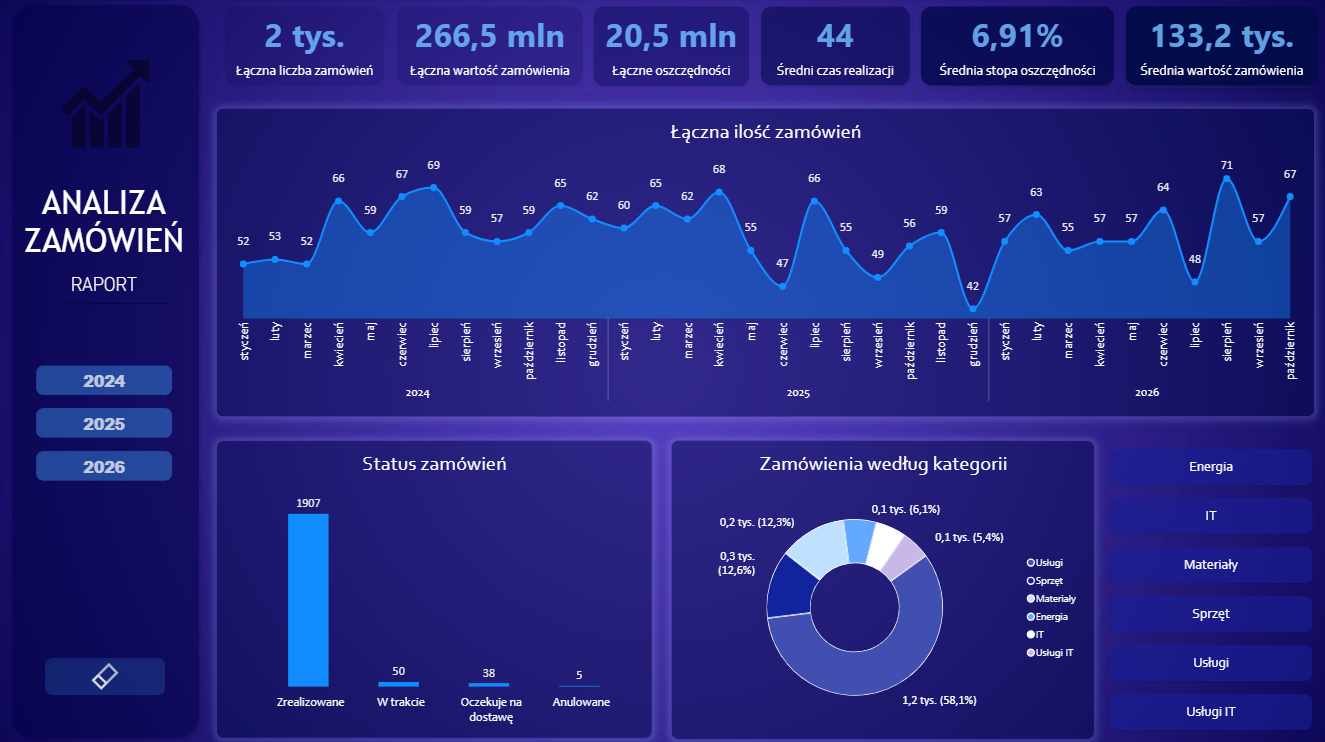

Layout of this report page (visuals, bound fields, positions):
{"tool":"powerbi","page":{"name":"Raport","canvas":[1920,1080],"ordinal":0},"visuals":[{"type":"shape","box":[6.4,0,289.8,1080.4],"z":0},{"type":"cardVisual","fields":{"Data":["Buyers.Total orders"]},"box":[313.7,0,256.8,139.4],"z":1000},{"type":"cardVisual","fields":{"Data":["Buyers.Total spend"]},"box":[562.3,0,293.5,139.4],"z":2000},{"type":"cardVisual","fields":{"Data":["Buyers.Total savings"]},"box":[847.6,0,250,140],"z":3000},{"type":"cardVisual","fields":{"Data":["Buyers.Average order value"]},"box":[1617.3,0,302.7,139.4],"z":4000},{"type":"cardVisual","fields":{"Data":["Buyers.Average savings rate"]},"box":[1321.5,0,304.5,139.4],"z":5000},{"type":"cardVisual","fields":{"Data":["Buyers.Average cycle time"]},"box":[1089.4,0,240.3,139.4],"z":6000},{"type":"areaChart","title":"Łączna ilość zamówień","fields":{"Category":["Calendar.Year","Calendar.Month Name"],"Y":["Buyers.Total orders"]},"box":[313.7,159.6,1590.3,447.6],"z":7000},{"type":"columnChart","title":"Status zamówień","fields":{"Category":["Orders.Order_Status"],"Y":["Buyers.Total orders"]},"box":[313.7,640.2,631,431],"z":8000},{"type":"donutChart","title":"Zamówienia według kategorii","fields":{"Category":["Categories.Category_Group"],"Y":["Buyers.Total orders"]},"box":[972.2,640.2,612.6,432.9],"z":9000},{"type":"advancedSlicerVisual","fields":{"Values":["Categories.Category_Group"]},"box":[1584.8,632.8,336,448],"z":10000},{"type":"textbox","box":[5.5,249.5,289.8,240.3],"z":11000},{"type":"image","box":[8.4,81.7,288,144],"z":12000},{"type":"advancedSlicerVisual","fields":{"Values":["Calendar.Year"]},"box":[30.4,512,240,208],"z":13000},{"type":"actionButton","title":"RESET FILTERS","box":[56.4,945.7,192,72],"z":14000},{"type":"shape","box":[56.4,297.7,192,288],"z":15000}]}

Visuals, with their boxes in screenshot pixels (x1, y1, x2, y2), scaled from the page's 1920x1080 canvas onto the 1325x742 screenshot:
shape: (left=4, top=0, right=204, bottom=741)
cardVisual - Buyers.Total orders: (left=216, top=0, right=394, bottom=96)
cardVisual - Buyers.Total spend: (left=388, top=0, right=591, bottom=96)
cardVisual - Buyers.Total savings: (left=585, top=0, right=757, bottom=96)
cardVisual - Buyers.Average order value: (left=1116, top=0, right=1324, bottom=96)
cardVisual - Buyers.Average savings rate: (left=912, top=0, right=1122, bottom=96)
cardVisual - Buyers.Average cycle time: (left=752, top=0, right=918, bottom=96)
"Łączna ilość zamówień" areaChart: (left=216, top=110, right=1314, bottom=417)
"Status zamówień" columnChart: (left=216, top=440, right=652, bottom=736)
"Zamówienia według kategorii" donutChart: (left=671, top=440, right=1094, bottom=737)
advancedSlicerVisual - Categories.Category_Group: (left=1094, top=435, right=1324, bottom=741)
textbox: (left=4, top=171, right=204, bottom=337)
image: (left=6, top=56, right=205, bottom=155)
advancedSlicerVisual - Calendar.Year: (left=21, top=352, right=187, bottom=495)
"RESET FILTERS" actionButton: (left=39, top=650, right=171, bottom=699)
shape: (left=39, top=205, right=171, bottom=402)
